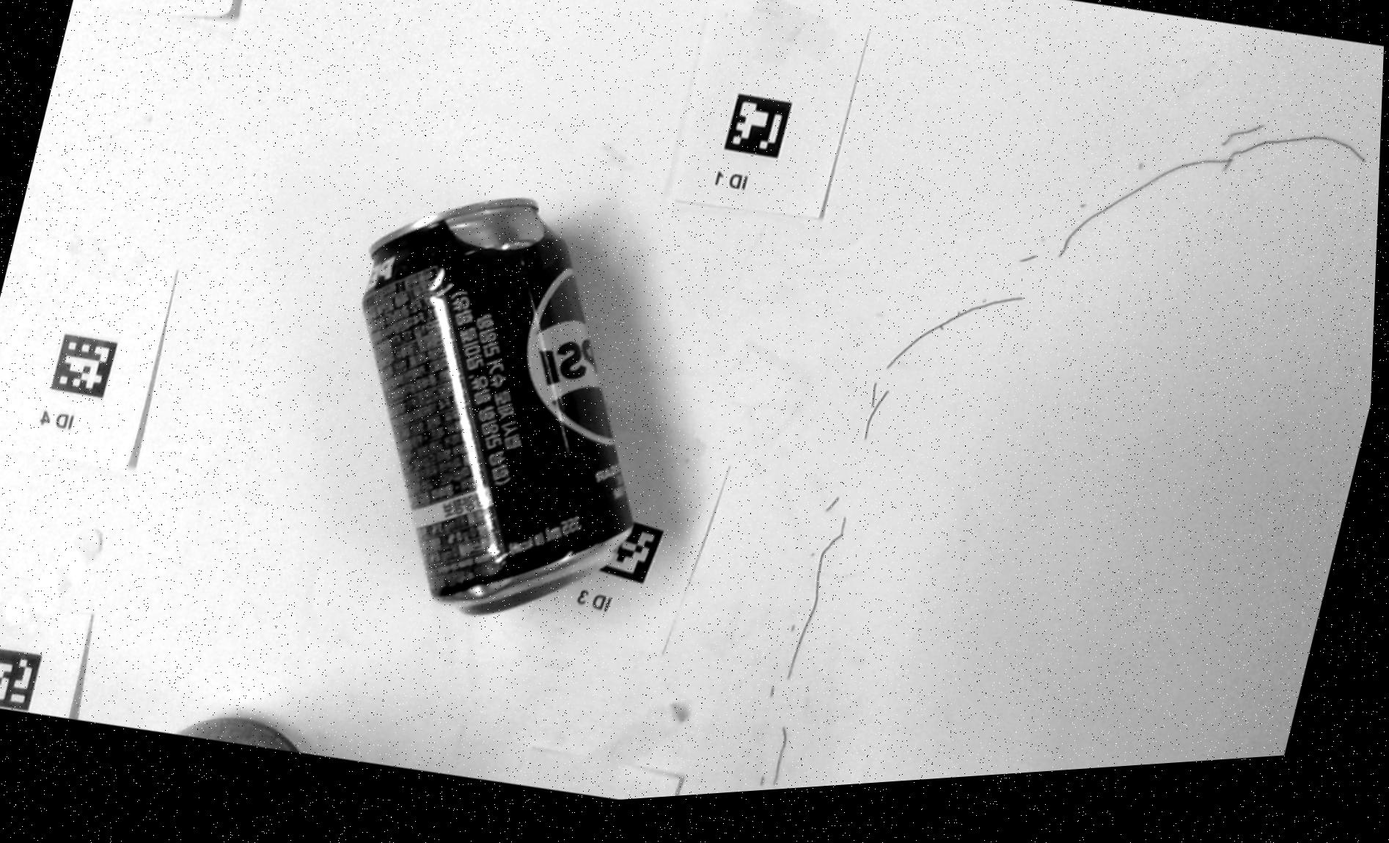can_pepsi_zero: (363, 198, 634, 612)
